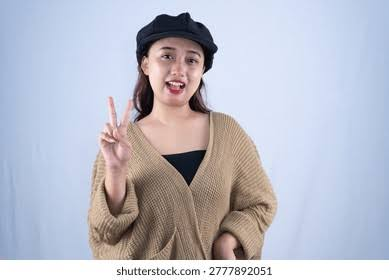peace_sign: (98, 95, 135, 168)
